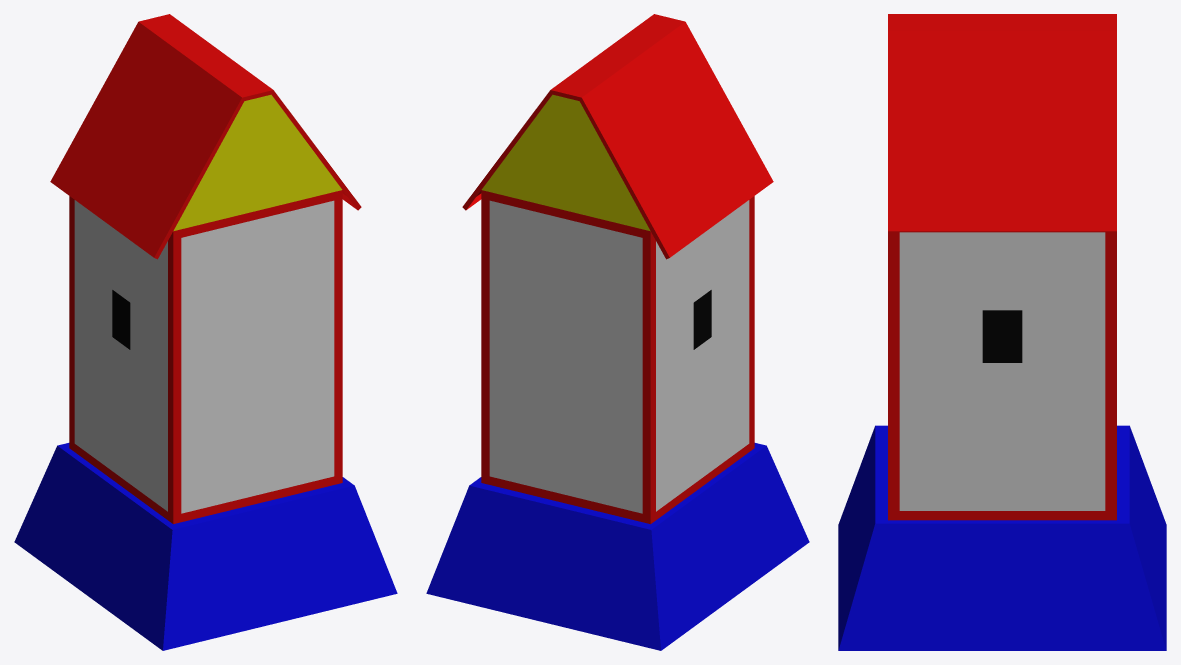
Rendered from FBX_Windmill_02.fbx.
3 views of the same model, side by side, from view 1: azimuth 30°, elevation 25°; view 2: azimuth 150°, elevation 25°; view 3: azimuth 270°, elevation 25° (orthographic). The views are drawn at different scales.
Visible parts, largest first — view 1: Windmill_02; view 2: Windmill_02; view 3: Windmill_02.
Part boxes in pixels (x1=…): Windmill_02: x1=14, y1=14, x2=397, y2=650; Windmill_02: x1=426, y1=14, x2=809, y2=650; Windmill_02: x1=838, y1=14, x2=1166, y2=650.
Bounding box in the file's own units: 144 × 300 × 158.
